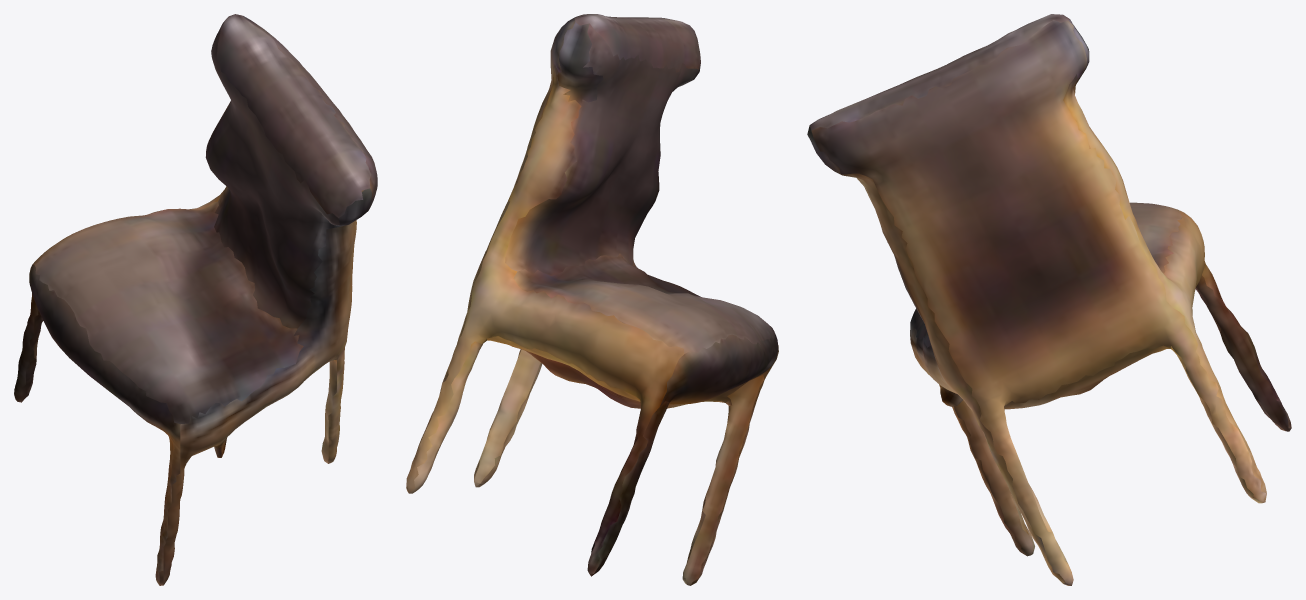
Rendered from 2_chair.glb.
3 views of the same model, side by side, from view 1: azimuth 30°, elevation 25°; view 2: azimuth 150°, elevation 25°; view 3: azimuth 270°, elevation 25° (orthographic). The views are drawn at different scales.
Visible parts, largest first — view 1: 2_chair; view 2: 2_chair; view 3: 2_chair.
Part boxes in pixels (x1,y1,x2,y2): 2_chair: [14, 14, 377, 585]; 2_chair: [406, 14, 778, 585]; 2_chair: [807, 14, 1291, 585].
Bounding box in the file's own units: 0.666 × 1.29 × 0.9636.
Materials: 1 (1 with a texture image).
